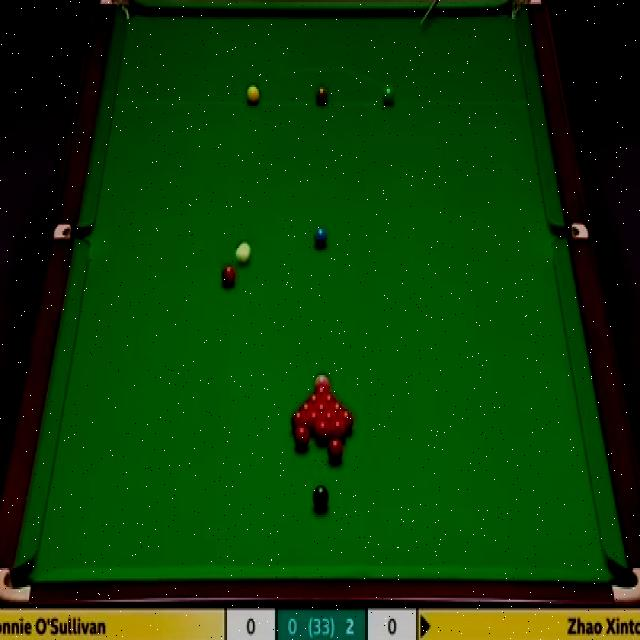black-ball: (313, 485, 328, 509)
blue-ball: (314, 225, 328, 247)
brown-ball: (314, 84, 328, 108)
green-ball: (381, 83, 395, 106)
pink-ball: (314, 374, 332, 387)
red-ball: (220, 266, 236, 288), (332, 419, 346, 444), (328, 439, 343, 462), (296, 426, 310, 449), (331, 402, 345, 424), (291, 412, 306, 431), (307, 412, 321, 432), (339, 409, 353, 429), (323, 412, 336, 433), (316, 422, 329, 442), (299, 403, 314, 411), (314, 404, 331, 411)
white-ball: (234, 240, 250, 266)
yellow-ball: (246, 85, 260, 106)
